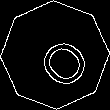O_NW: (22, 22, 88, 88)
